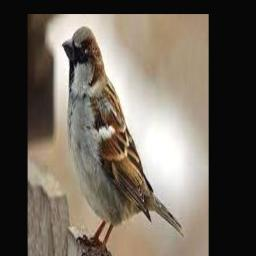Sparrow: (62, 27, 183, 256)
